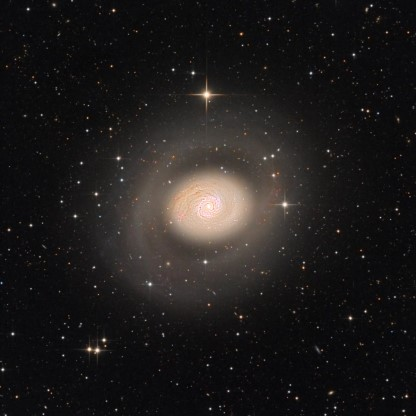Messier 94: (83, 81, 328, 317)
